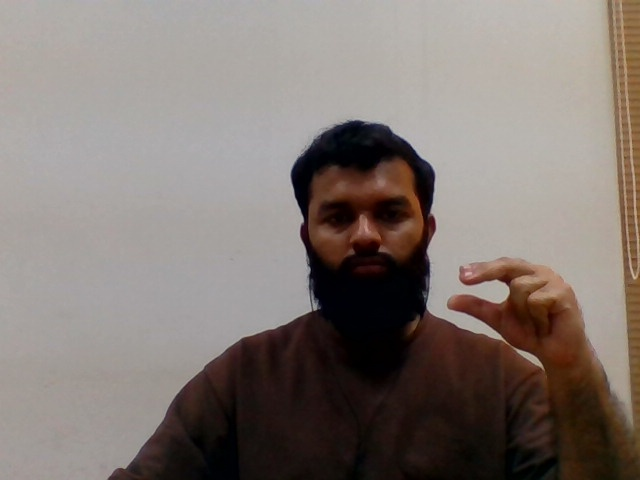No: (436, 249, 611, 358)
